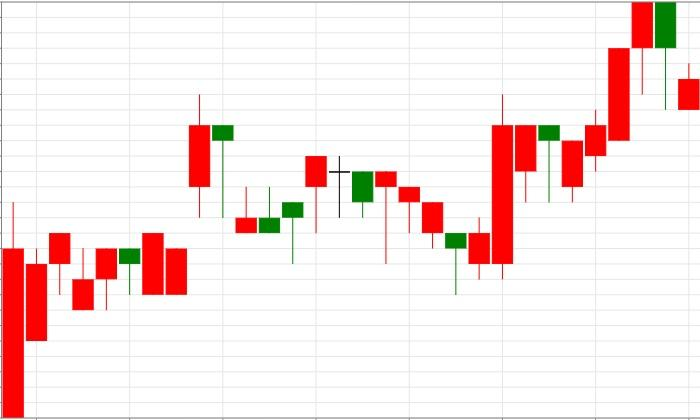hanging_man_fall: (561, 2, 676, 202)
